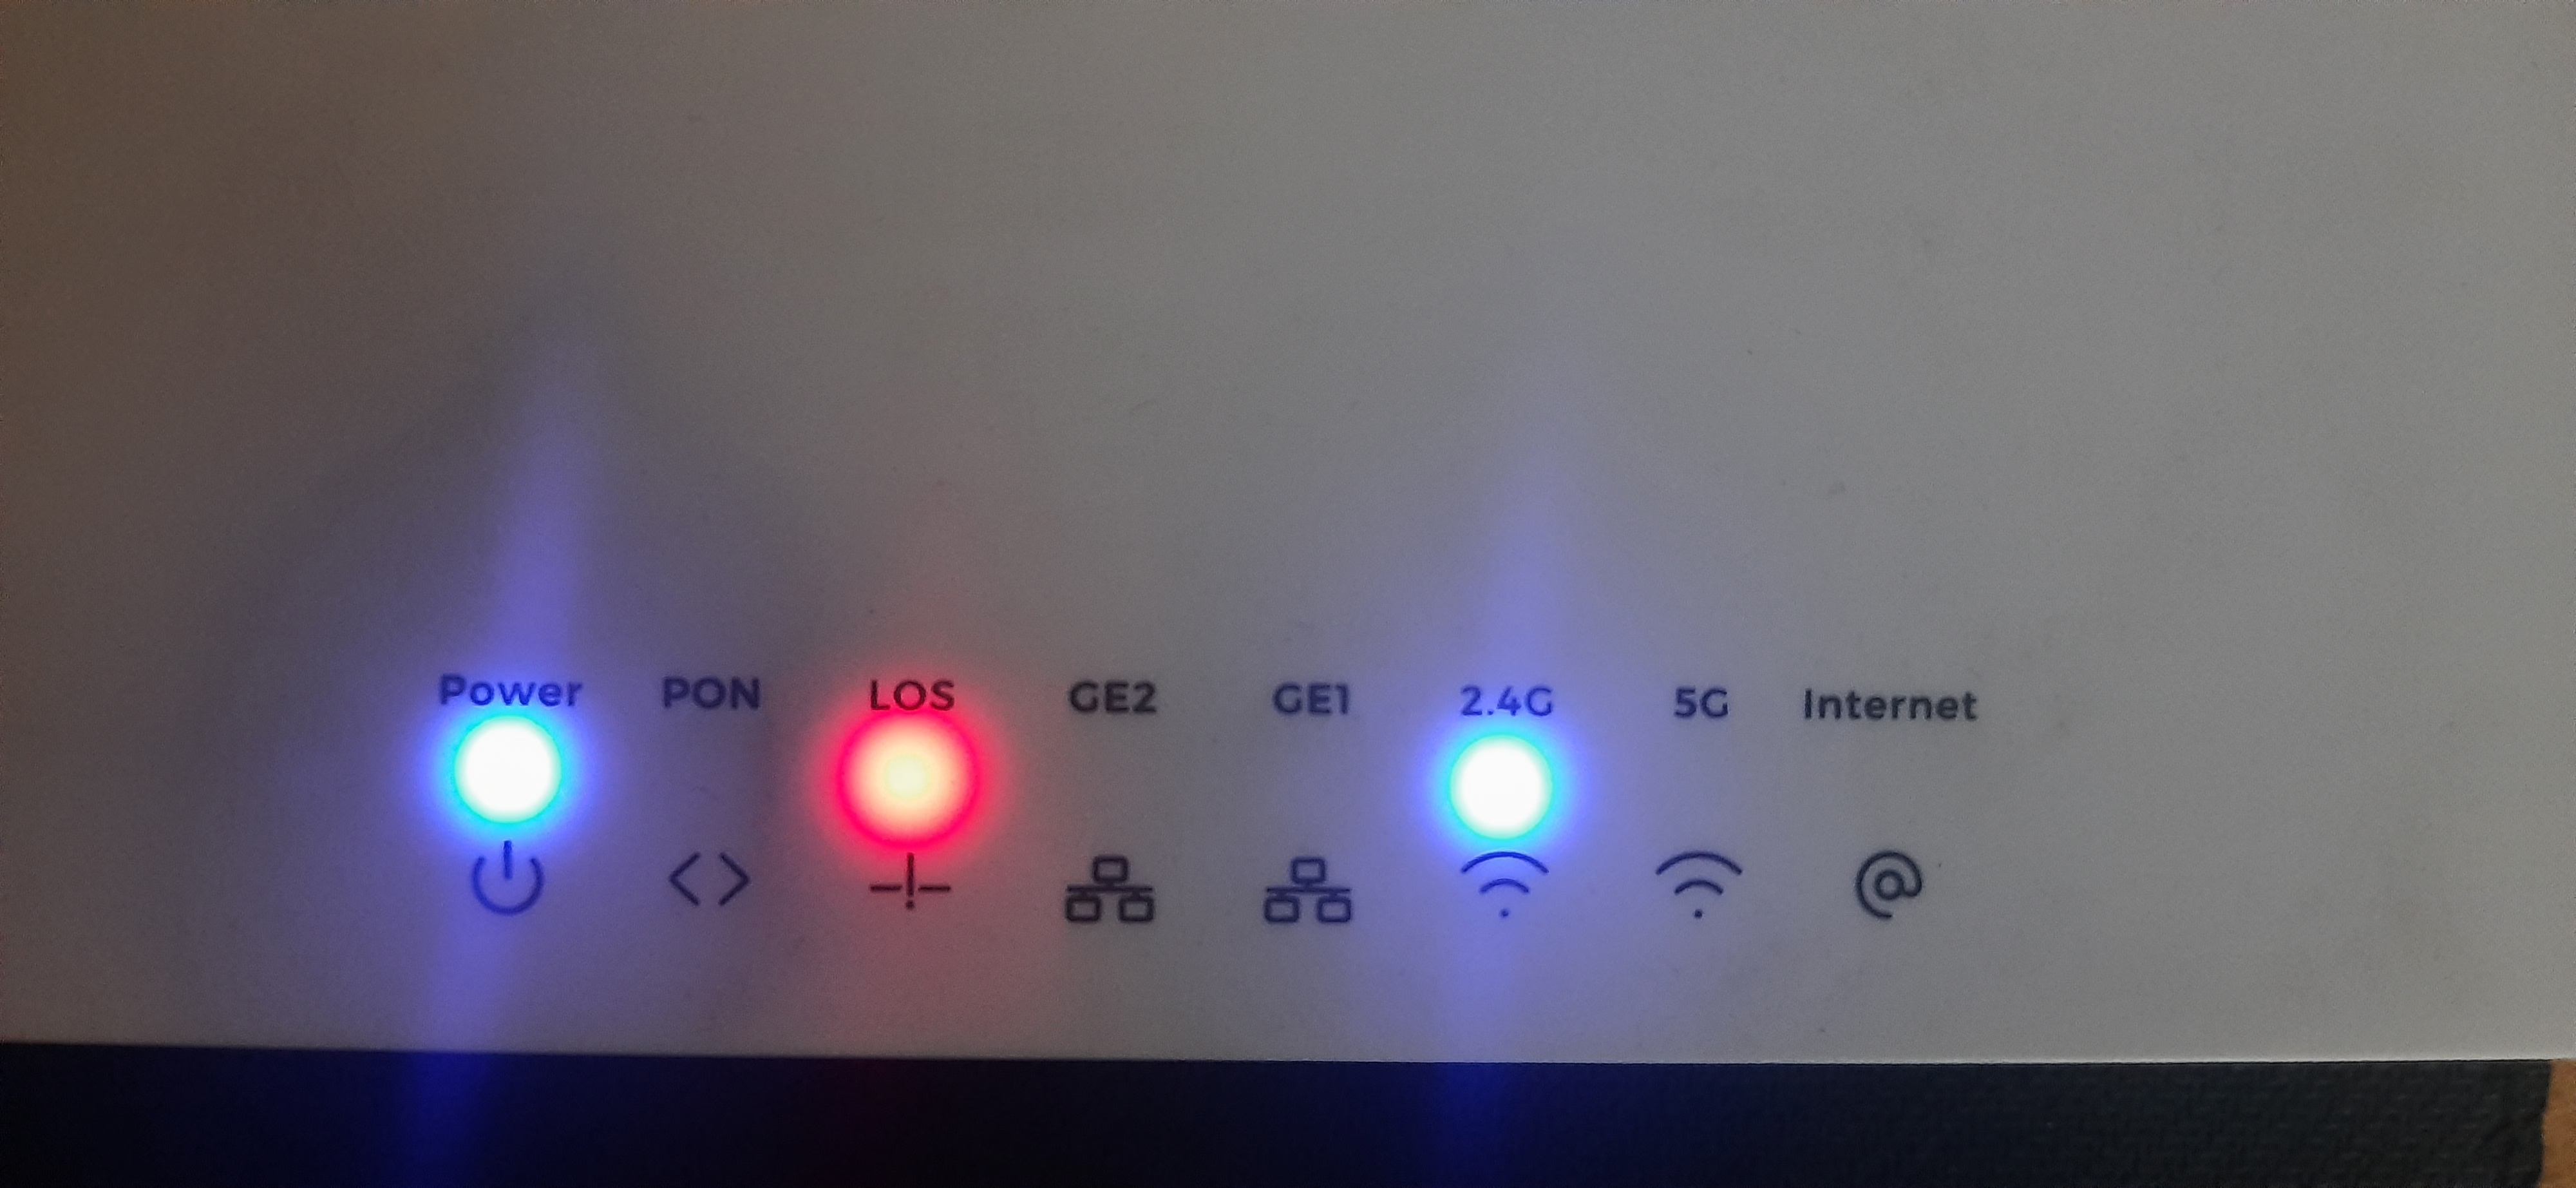LOSConnectionIssue: (792, 644, 1038, 961)
